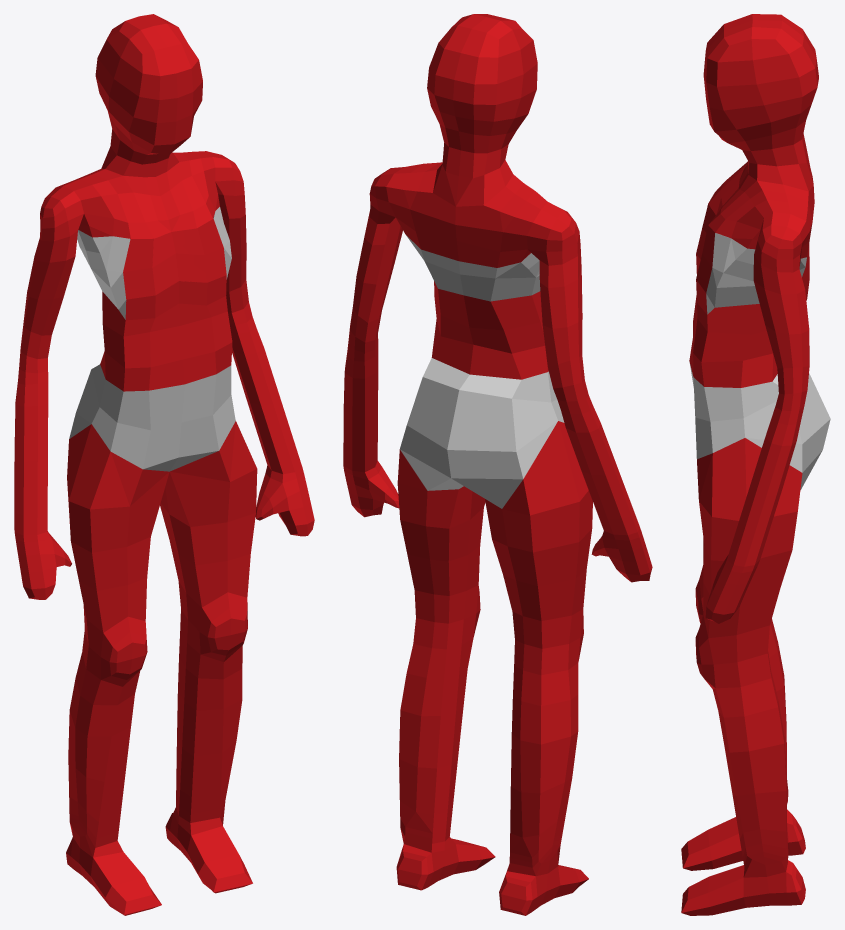
File: man.fbx
3 renders of one model, left to right at view 1: azimuth 30°, elevation 25°; view 2: azimuth 150°, elevation 25°; view 3: azimuth 270°, elevation 25°, orthographic. The views are drawn at different scales.
Visible parts, largest first — view 1: Man; view 2: Man; view 3: Man.
Part boxes in pixels (x1=…): Man: x1=14, y1=14, x2=314, y2=915; Man: x1=343, y1=14, x2=652, y2=915; Man: x1=681, y1=14, x2=830, y2=915.
Bounding box in the file's own units: 69.87 × 197 × 30.77.
